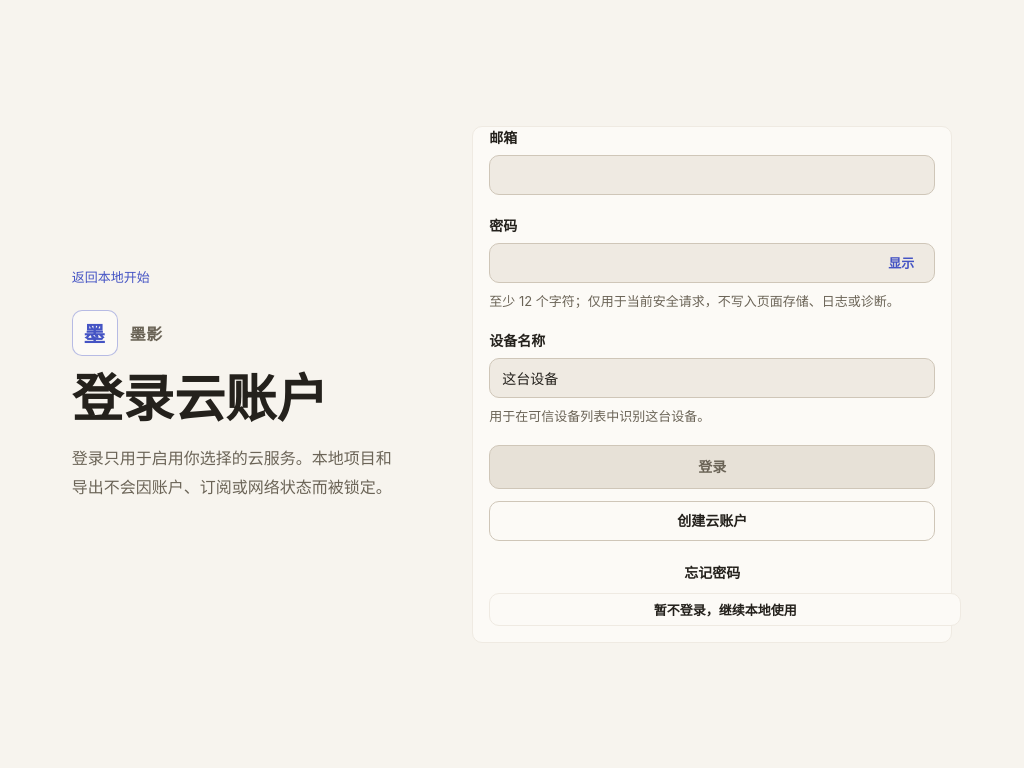
it: cloud login route › submits only through the enabled cloud identity service and clears the password
Expected: the heading "登录云账户" is shown, [72, 372, 328, 428]
Type "writer@example.test" into the field labelled "邮箱" at [712, 174], box [502, 156, 922, 194]
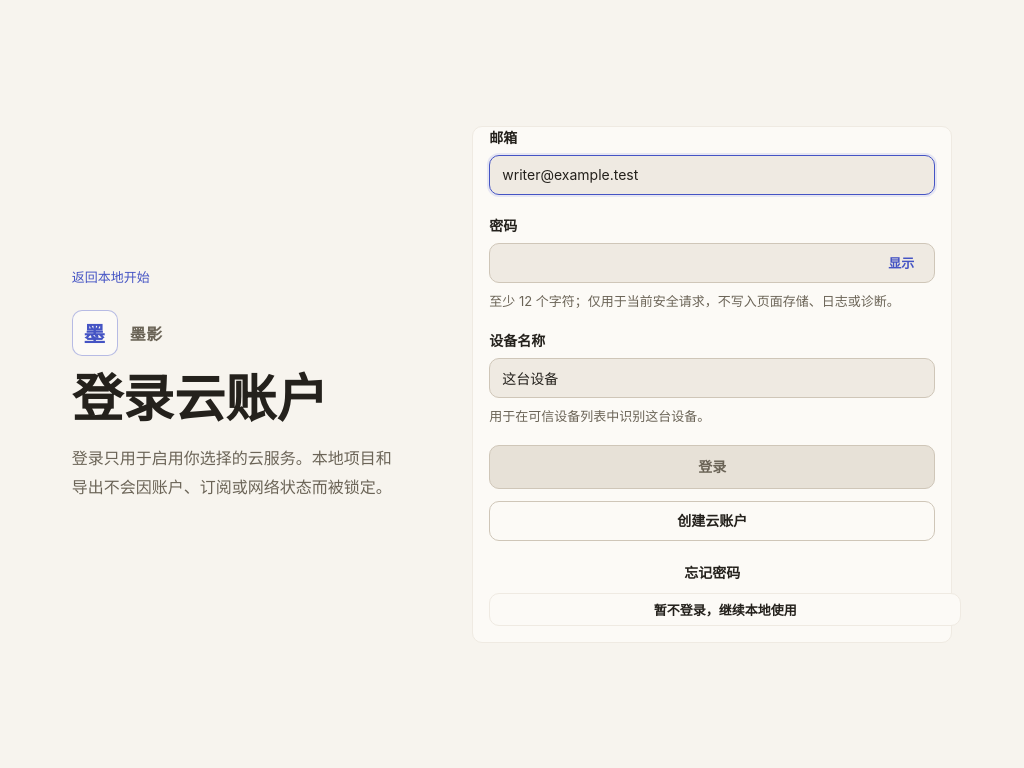
Replace the text in the field labelled "设备名称" with "书房电脑" at [712, 378], box [502, 358, 922, 396]
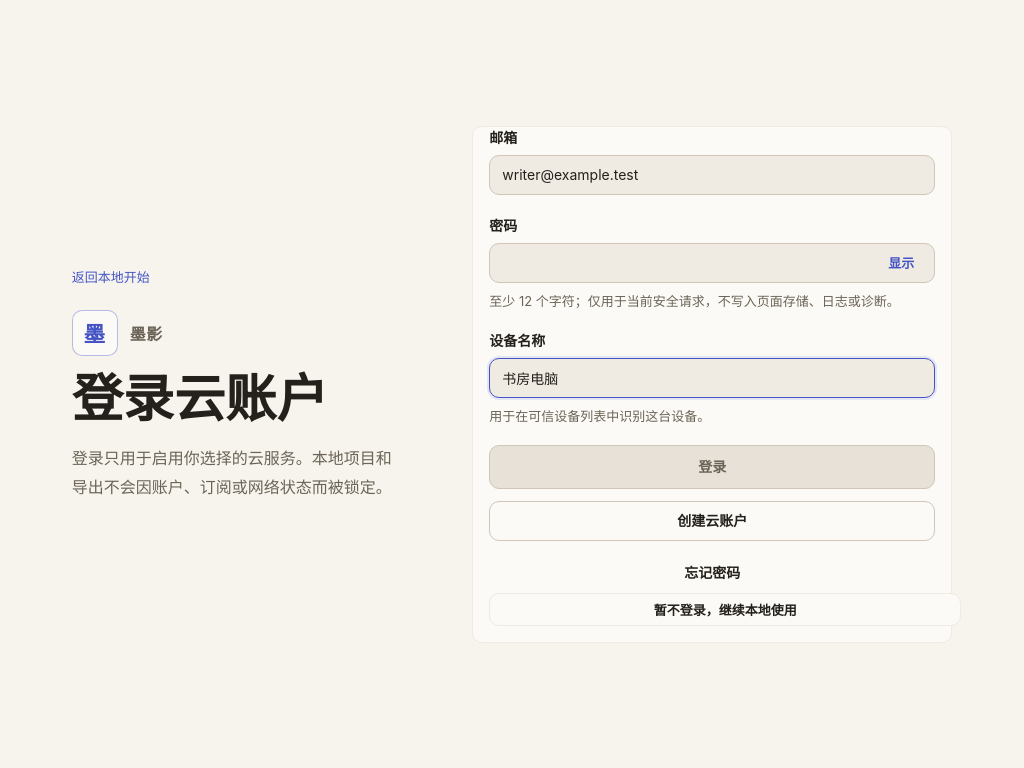
Type "test-password" into the password field labelled "密码" at [687, 262], box [502, 244, 872, 282]
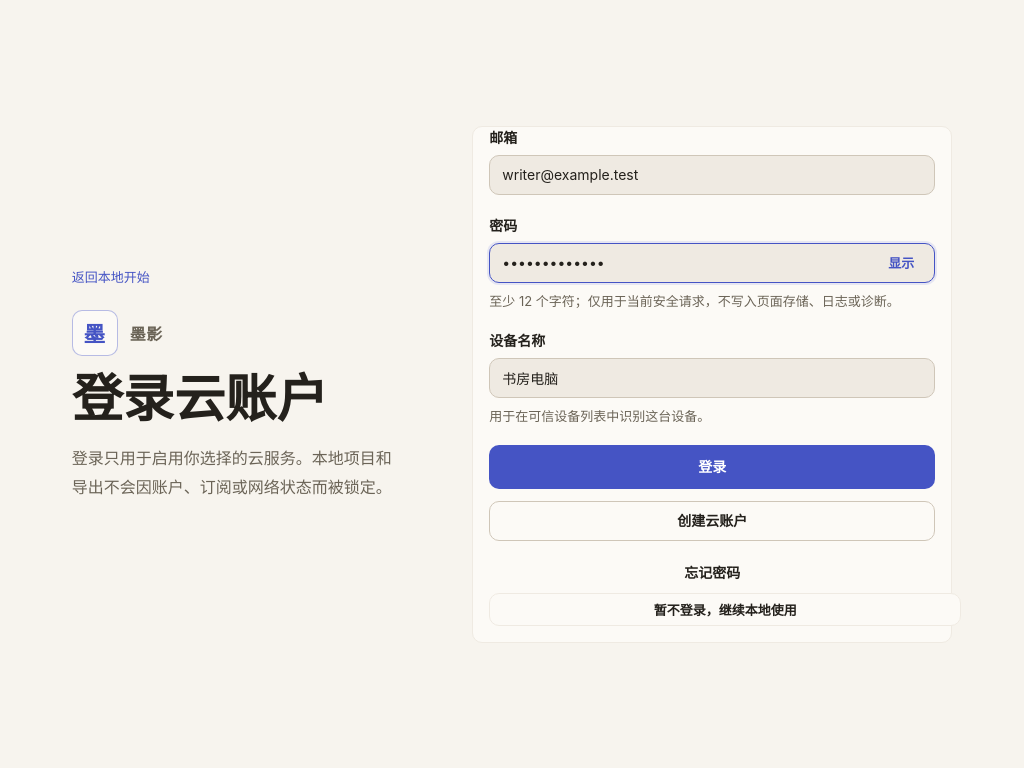
Click the button "登录" at [712, 466], box [489, 444, 935, 488]
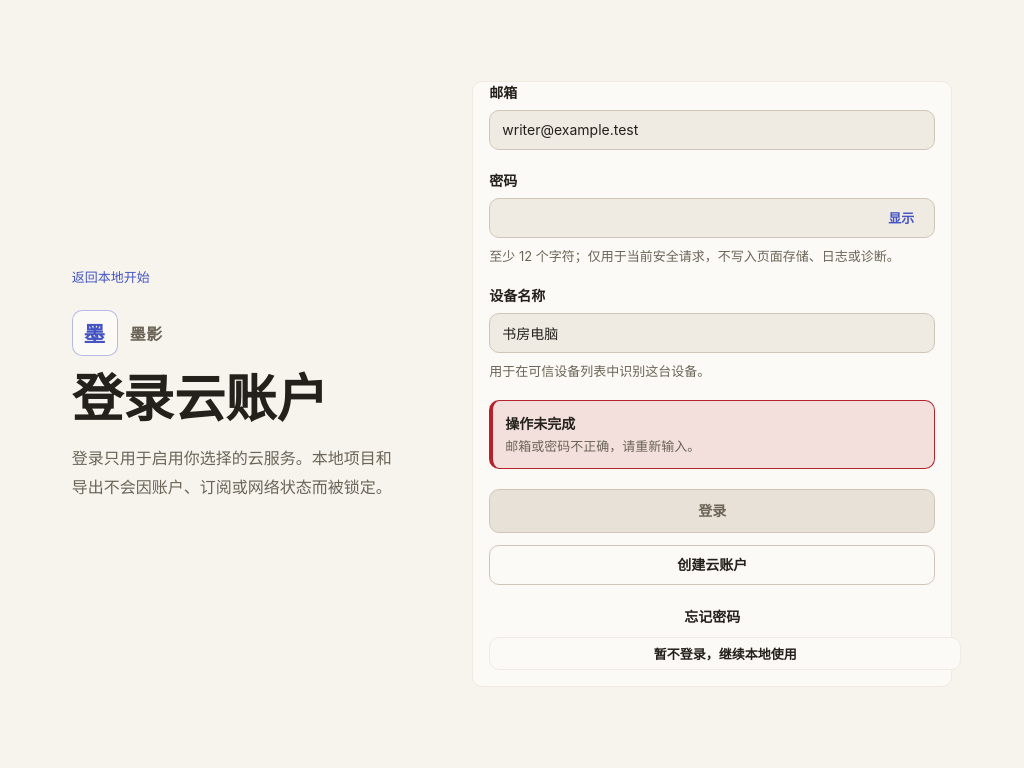
Now the text "邮箱或密码不正确，请重新输入。" is shown, box [505, 438, 700, 454]
Now the password field labelled "密码" is empty, box [502, 199, 872, 237]
